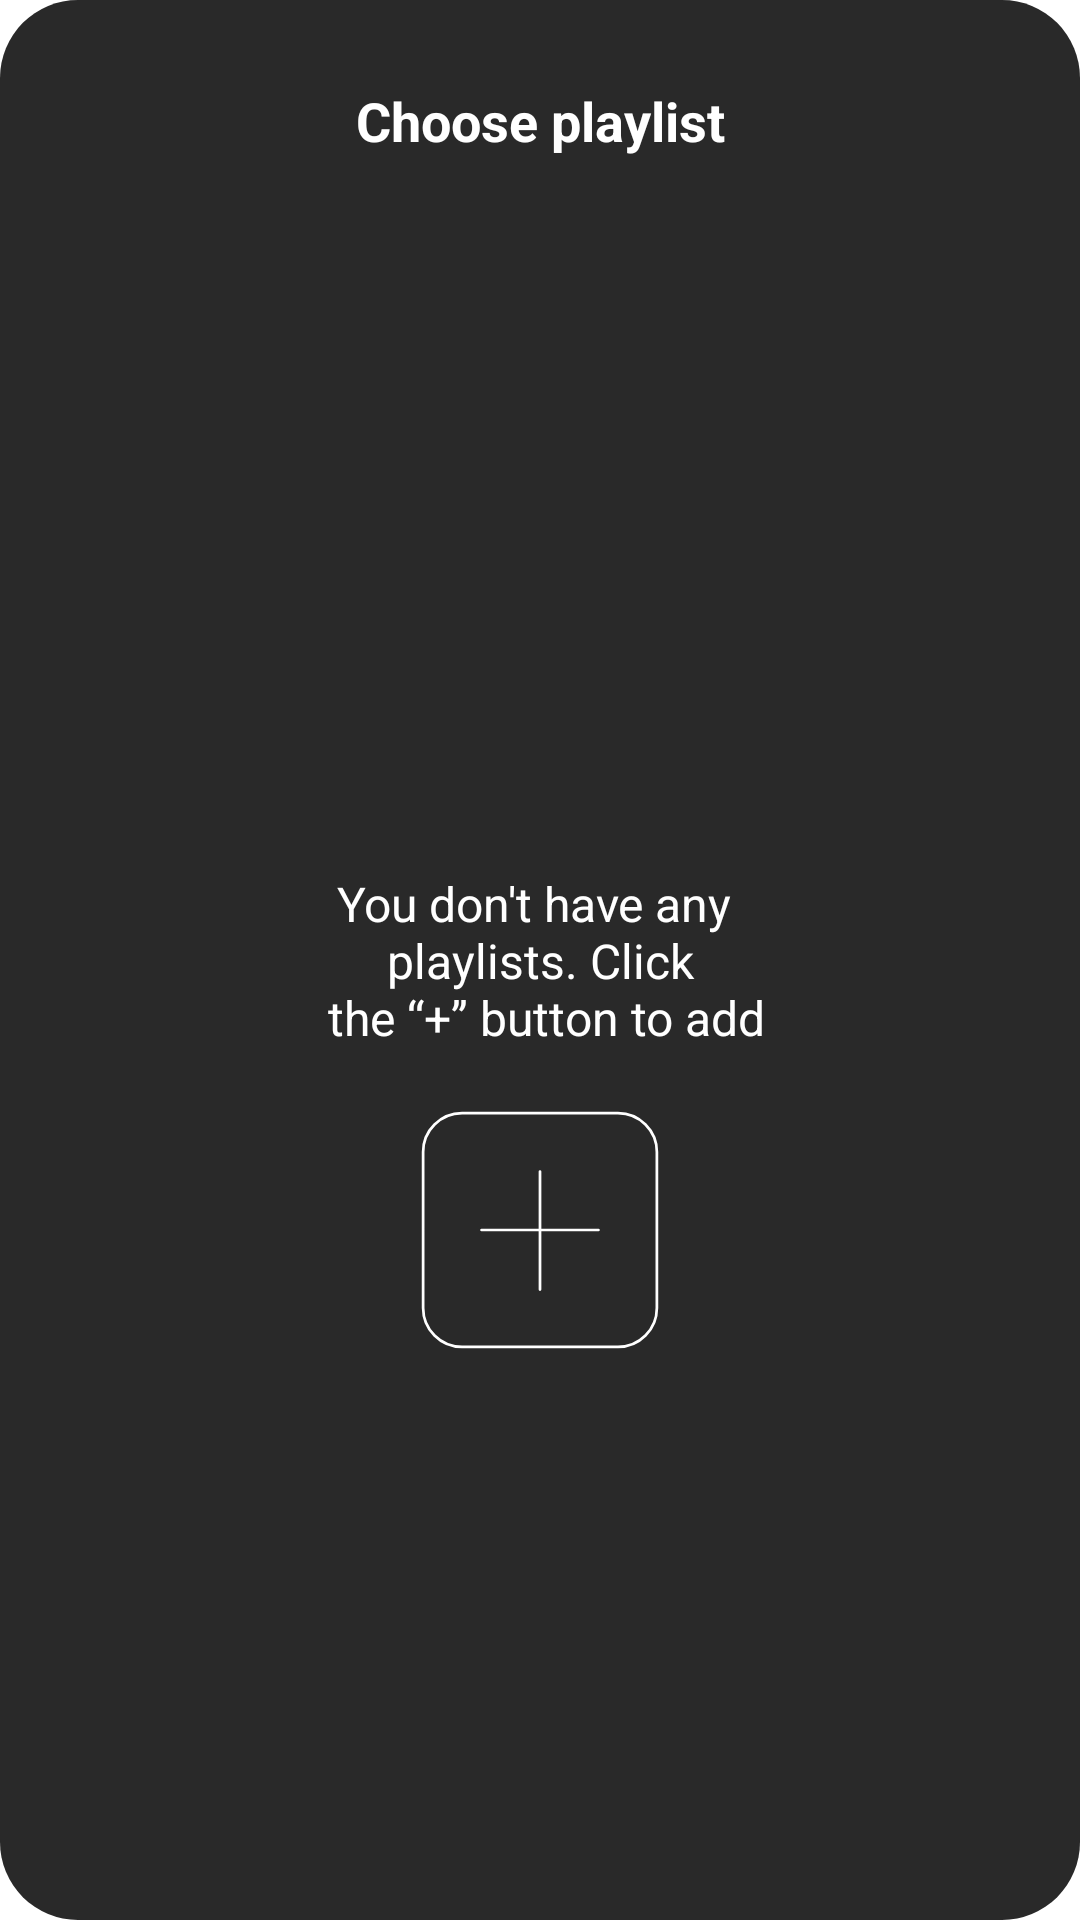

Where to tap for icons on this 1080×1920 app screen, as (x=x, y=y):
playlist addplaylist: (x=540, y=1230)
